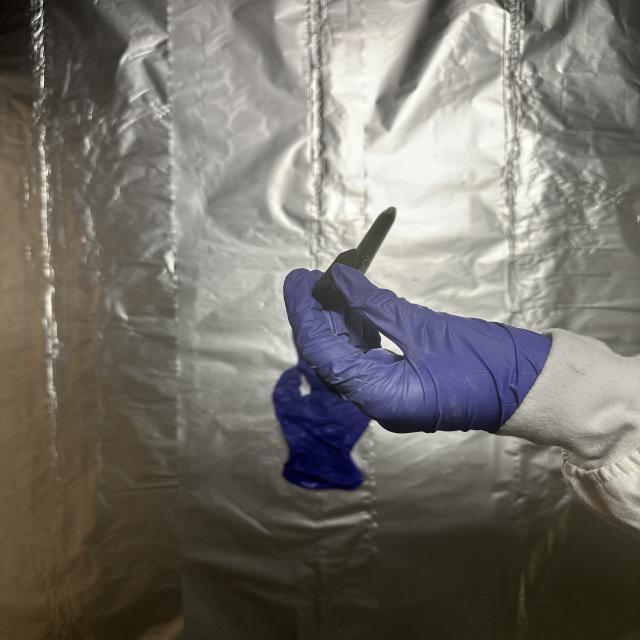gloves_contaminated: (284, 266, 550, 433)
